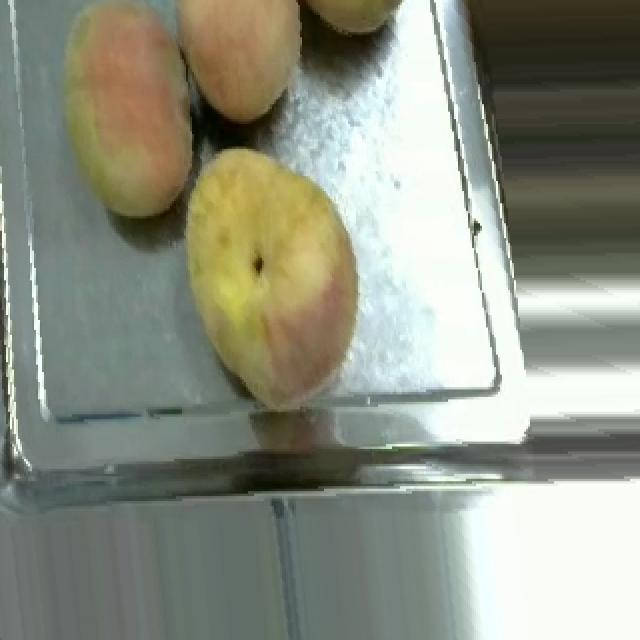Fruit: (170, 134, 378, 414), (44, 0, 210, 231), (182, 0, 322, 134), (274, 0, 438, 52)
